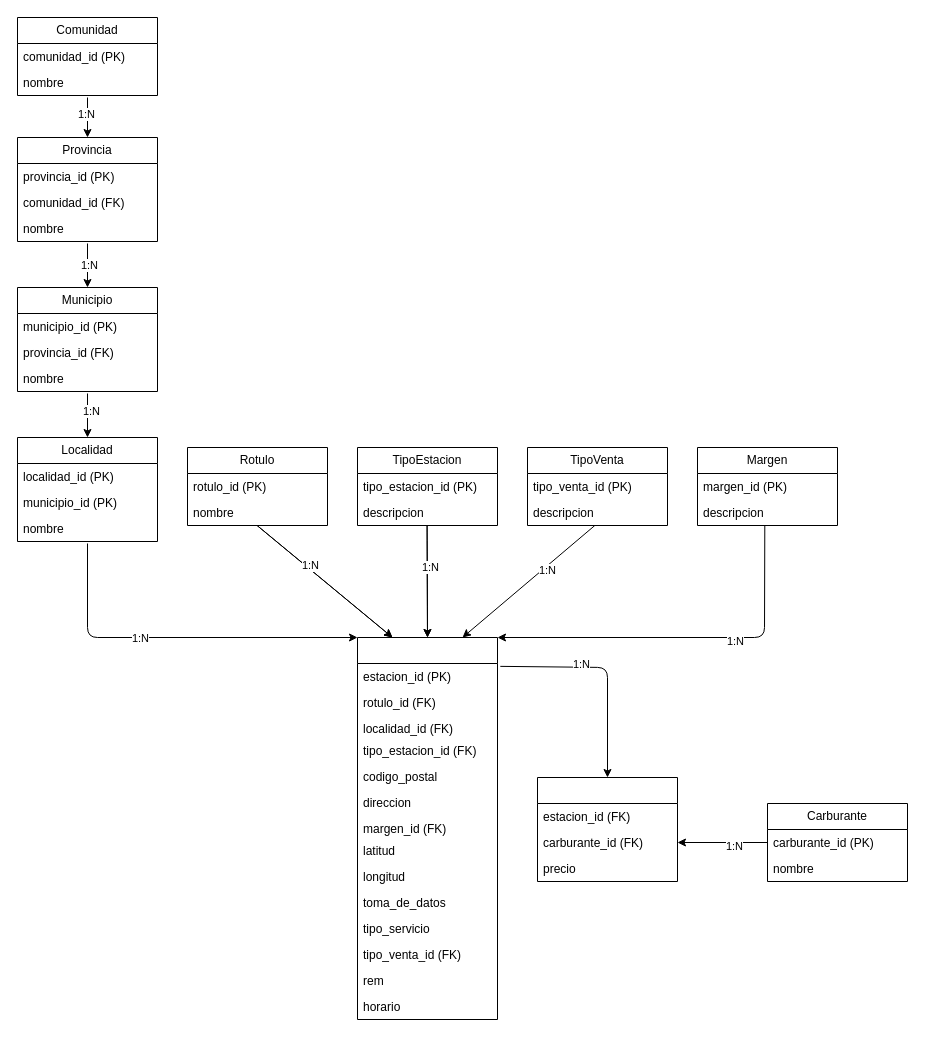
The diagram is 925 pixels wide and 1040 high, and some of its shapes have lost their labels. The box of each missing label's shape, as (x1, y1, x2, y2) in pixels:
EstacionServicio: (356, 636, 498, 1020)
PrecioCarburante: (536, 776, 678, 882)
